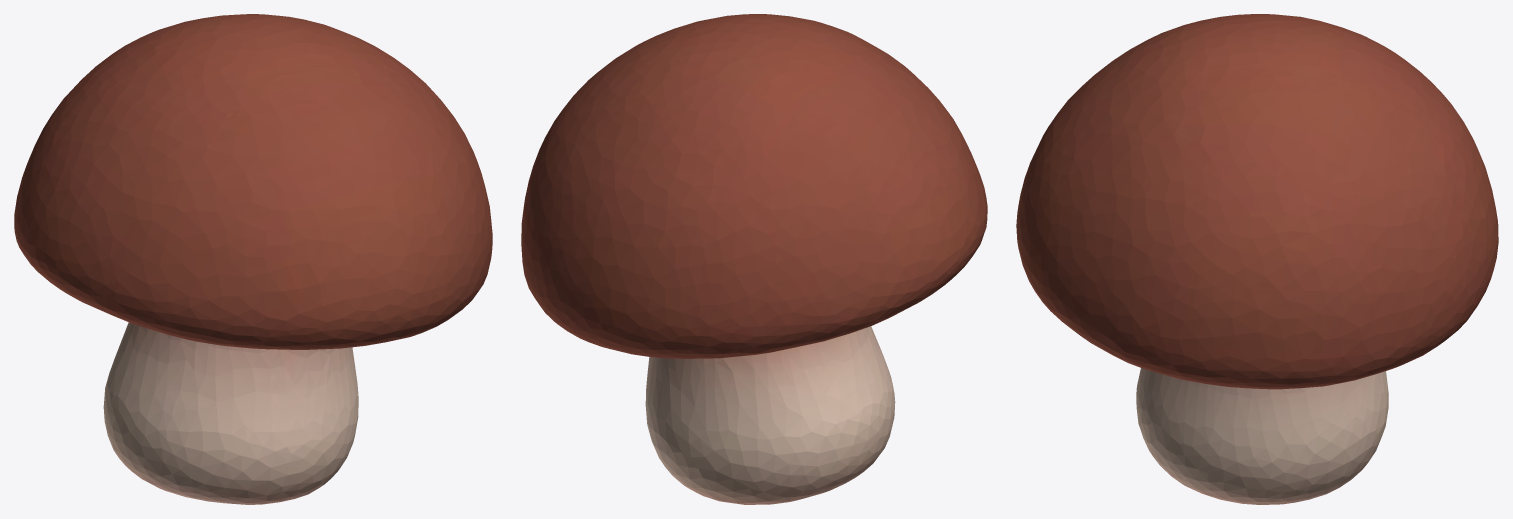
Rendered from mushroom_brown.glb.
The picture shows the model from 3 angles, left to right: view 1: azimuth 30°, elevation 25°; view 2: azimuth 150°, elevation 25°; view 3: azimuth 270°, elevation 25°; orthographic projection. The views are drawn at different scales.
Parts seen in each view (by area): view 1: tmpti8ge1p0.ply; view 2: tmpti8ge1p0.ply; view 3: tmpti8ge1p0.ply.
Part boxes in pixels (x1=…): tmpti8ge1p0.ply: x1=14, y1=14, x2=492, y2=504; tmpti8ge1p0.ply: x1=521, y1=14, x2=987, y2=504; tmpti8ge1p0.ply: x1=1016, y1=14, x2=1498, y2=504.
Bounding box in the file's own units: 1.93 × 1.99 × 1.95.
Materials: 1 (1 with a texture image).
